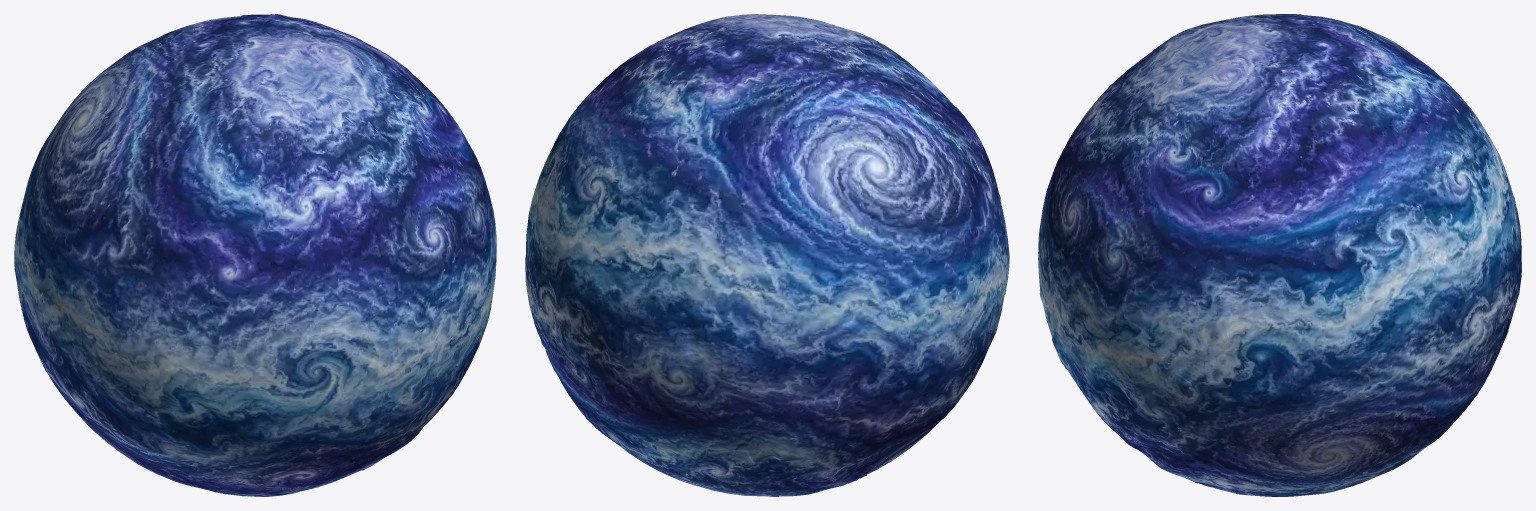
The model's file is planet_11.glb.
3 renders of one model, left to right at view 1: azimuth 30°, elevation 25°; view 2: azimuth 150°, elevation 25°; view 3: azimuth 270°, elevation 25°, orthographic.
Parts seen in each view (by area): view 1: Mesh_0.001; view 2: Mesh_0.001; view 3: Mesh_0.001.
Boxes of the visible parts, x1,y1,x2,y2 form: Mesh_0.001: (14,14,496,496); Mesh_0.001: (525,14,1009,496); Mesh_0.001: (1038,14,1521,496).
Size of the model in its own units: 1.9 by 1.9 by 1.9.
1 material, 1 textured.
